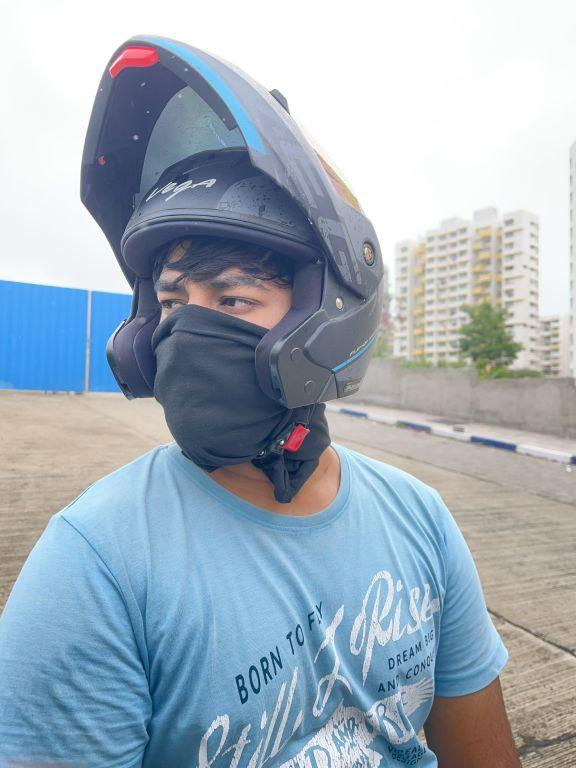helmet: (65, 12, 396, 481)
